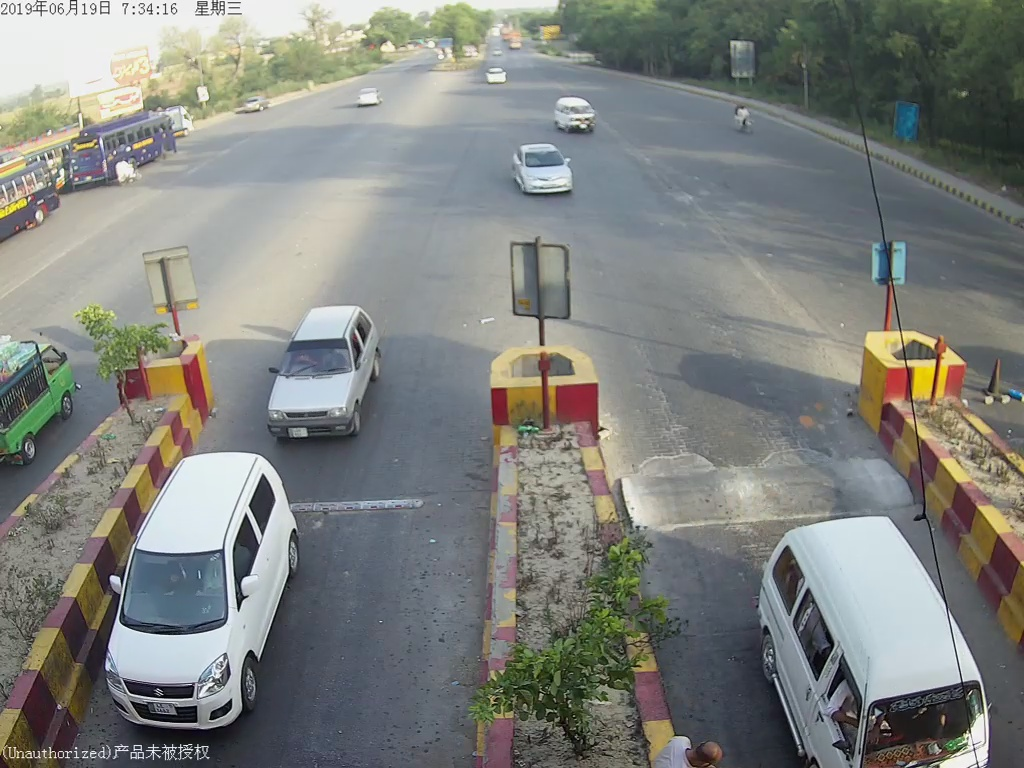Cat-1: (95, 451, 293, 729), (266, 300, 392, 430), (510, 142, 575, 198)
